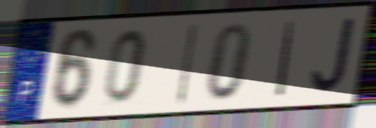0: (204, 21, 251, 103), (103, 26, 149, 108)
6: (48, 26, 99, 113)
I: (174, 20, 202, 107), (273, 19, 297, 99)
J: (309, 15, 357, 97)
